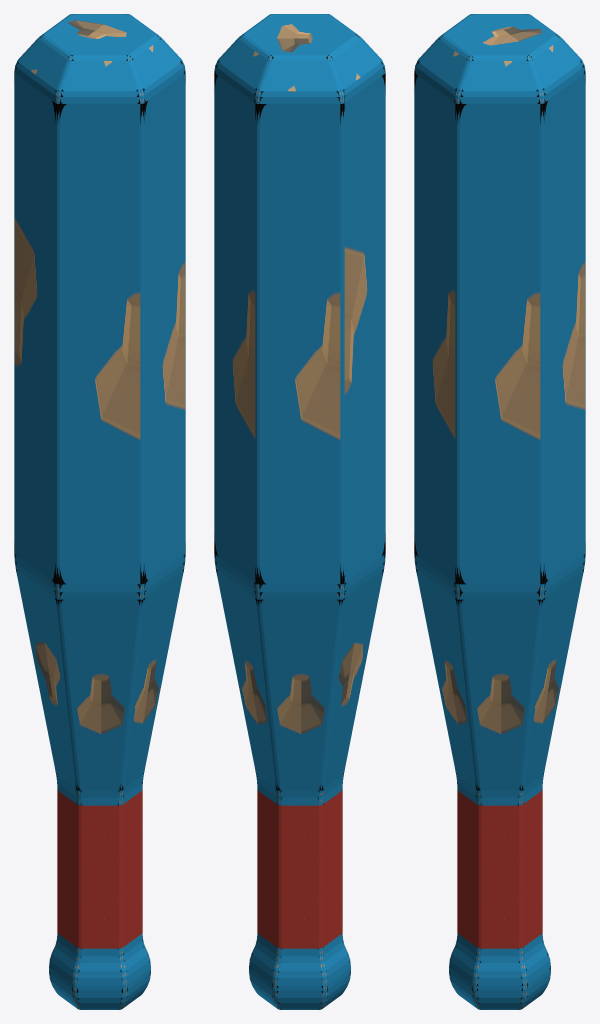
The model's file is bat.fbx.
3 views of the same model, side by side, from view 1: azimuth 30°, elevation 25°; view 2: azimuth 150°, elevation 25°; view 3: azimuth 270°, elevation 25° (orthographic).
Parts seen in each view (by area): view 1: Cylinder; view 2: Cylinder; view 3: Cylinder.
Boxes of the visible parts, x1,y1,x2,y2 form: Cylinder: (14,14,185,1009); Cylinder: (214,14,385,1009); Cylinder: (414,14,585,1009).
Size of the model in its own units: 173 by 1224 by 198.
